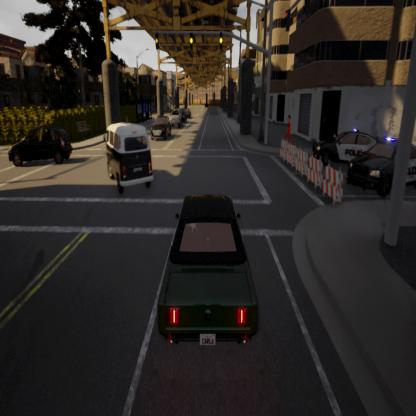Cars: (159, 197, 258, 348), (348, 138, 416, 198), (104, 126, 154, 196), (9, 126, 71, 167), (314, 127, 378, 164), (151, 116, 169, 139), (169, 108, 181, 127), (178, 107, 186, 122), (186, 106, 191, 120), (205, 102, 209, 110)
Pedestrian: (285, 111, 295, 150)
